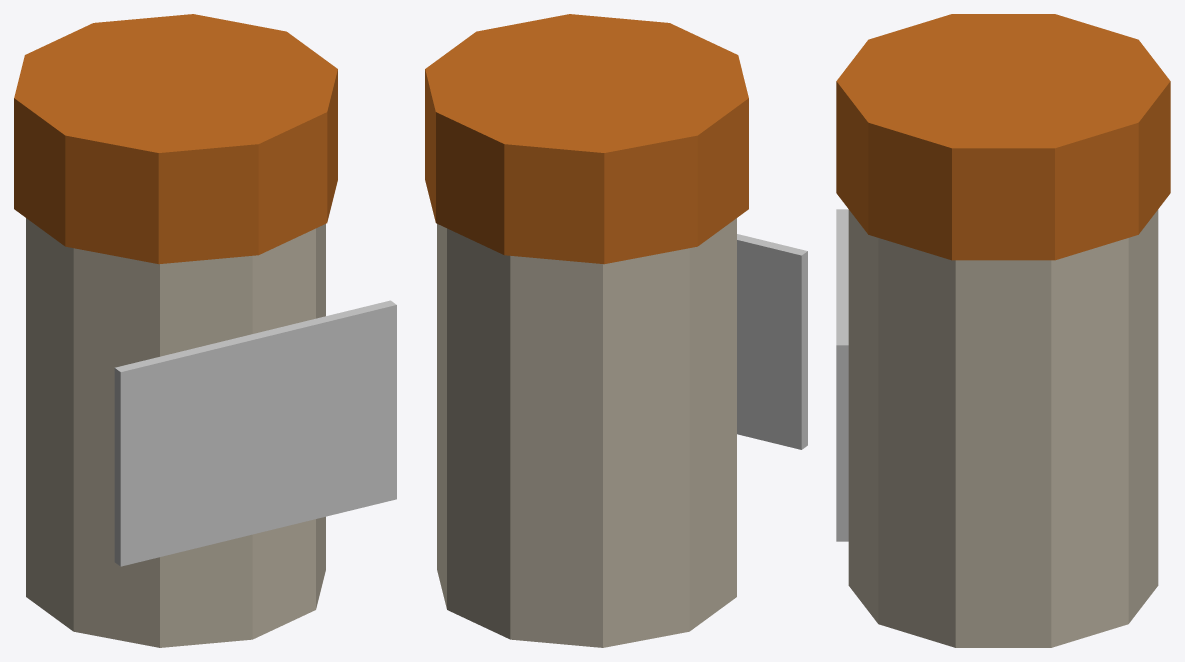
File: antibiotics.glb
3 views of the same model, side by side, from view 1: azimuth 30°, elevation 25°; view 2: azimuth 150°, elevation 25°; view 3: azimuth 270°, elevation 25° (orthographic).
Visible parts, largest first — view 1: antibiotics; view 2: antibiotics; view 3: antibiotics.
Boxes of the visible parts, x1,y1,x2,y2 form: antibiotics: [14, 14, 396, 647]; antibiotics: [425, 14, 807, 647]; antibiotics: [836, 14, 1170, 647].
Bounding box in the file's own units: 0.052 × 0.09 × 0.054.
